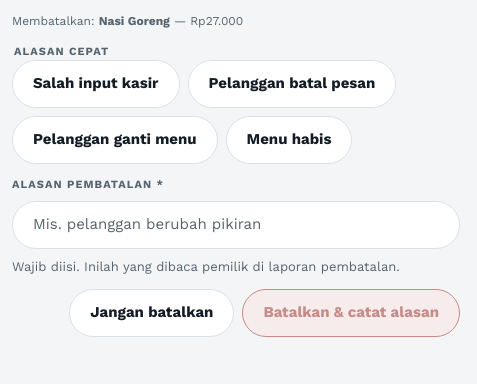
VoidItem (T5-06) › penolakan peladen ditampilkan apa adanya, tidak disulap jadi berhasil
In the field labelled "Alasan pembatalan *": (236, 225) [12,201,460,249], type "salah"
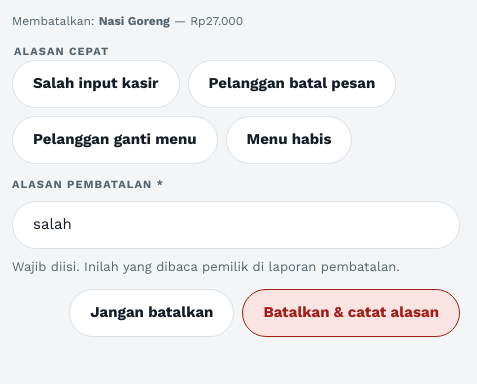
Click the button "Batalkan & catat alasan": (351, 313) [242,289,460,337]
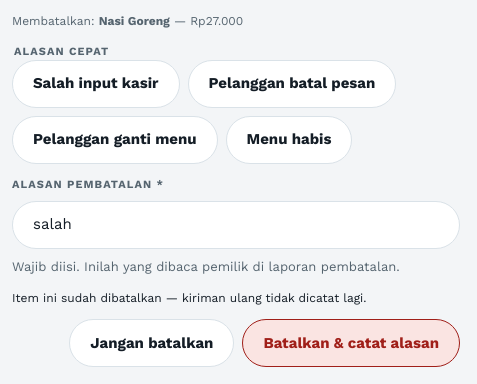
Expected: the message with test id "void-pesan" shows "sudah dibatalkan", [12,291,366,305]
